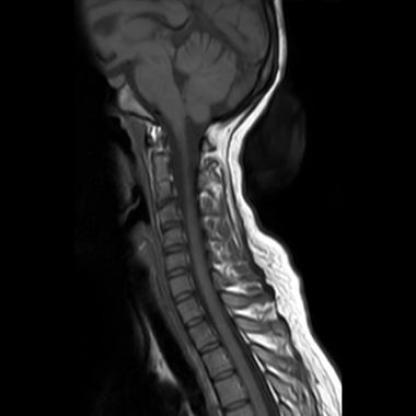Disc Bulgerotation: (173, 287, 197, 304), (163, 266, 192, 280), (161, 243, 190, 257)
